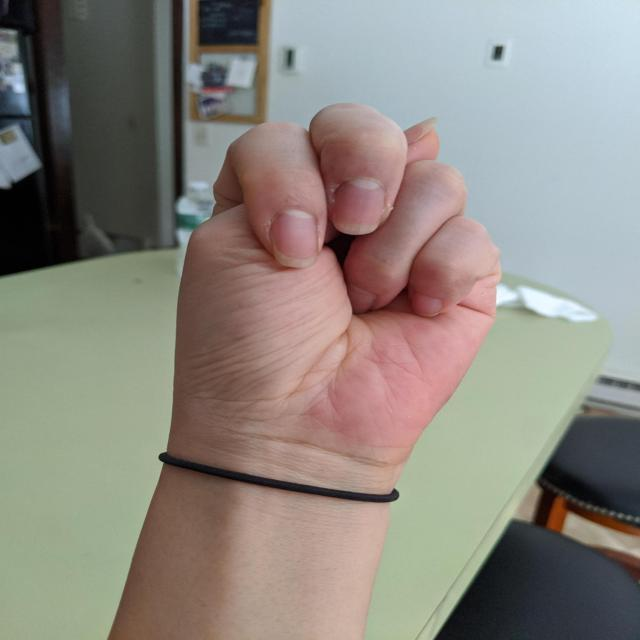N: (162, 94, 516, 476)
